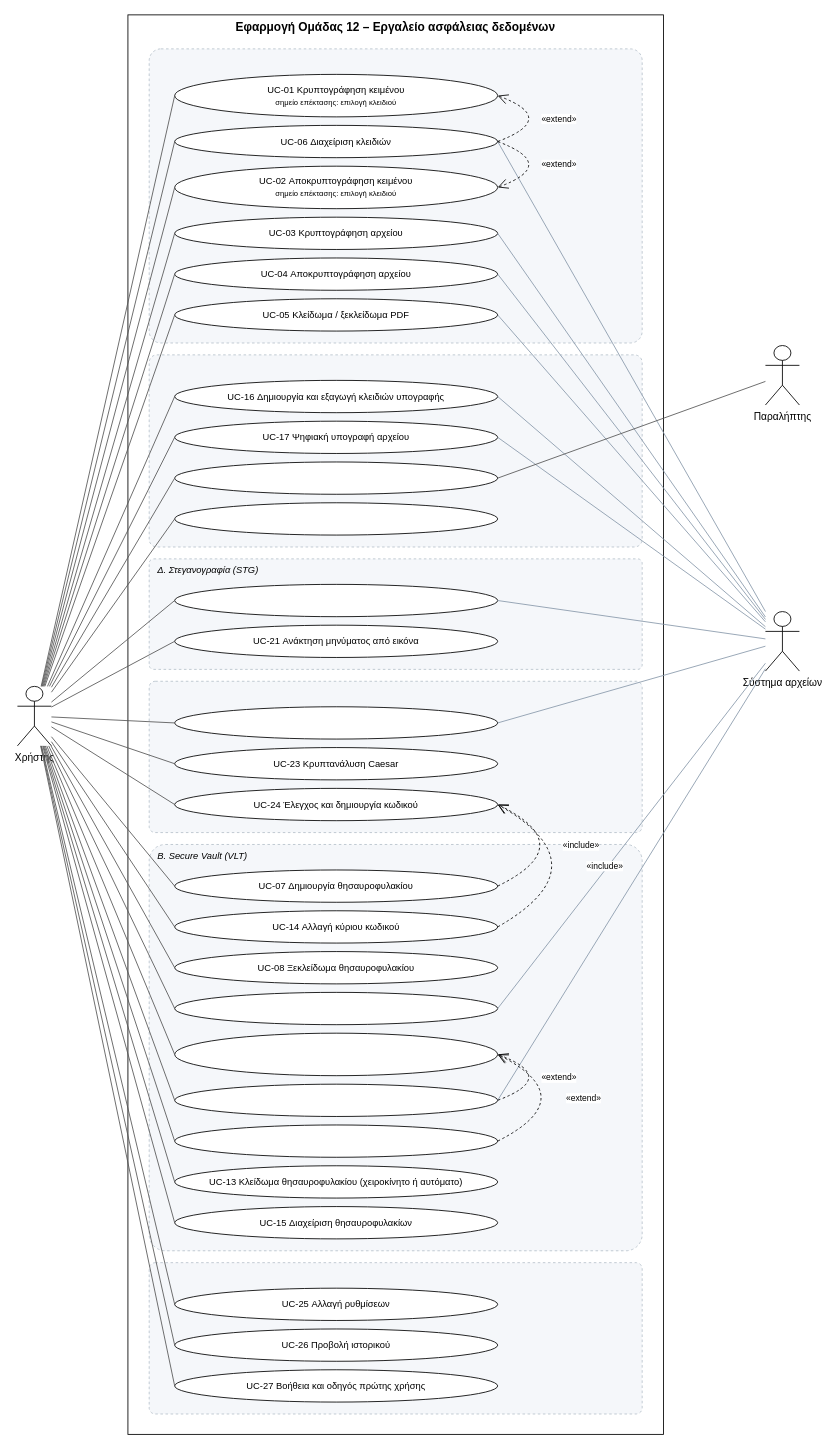
Some shapes in this 836 by 1449 pixel diagram are drawn without their labels. Here are the shapes that lost their labels. From the top down, the box of each, then its label:
(148, 48, 642, 343): Α. Κρυπτογράφηση (ENC)
(148, 354, 642, 547): Γ. Ψηφιακή υπογραφή (SIG)
(174, 461, 498, 494): UC-18 Επαλήθευση υπογραφής
(174, 502, 498, 535): UC-19 Σύγκριση αποτυπωμάτων αρχείων
(174, 584, 498, 617): UC-20 Απόκρυψη μηνύματος σε εικόνα
(174, 706, 498, 739): UC-22 Σύγκριση αλγορίθμων
(148, 680, 642, 833): Ε. Εργαστήριο κρυπτογραφίας (LAB)
(174, 992, 498, 1025): UC-09 Προσθήκη αρχείων στο θησαυροφυλάκιο
(174, 1032, 498, 1076): UC-10 Αναζήτηση και προβολή περιεχομένων σημείο επέκτασης: ενέργεια σε αρχείο
(174, 1083, 498, 1116): UC-11 Εξαγωγή αρχείων από το θησαυροφυλάκιο
(174, 1124, 498, 1157): UC-12 Διαγραφή αρχείου από το θησαυροφυλάκιο
(148, 1262, 642, 1414): ΣΤ. Γενικές λειτουργίες (APP)
